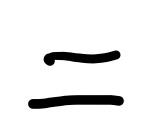eqv: (28, 50, 124, 109)
